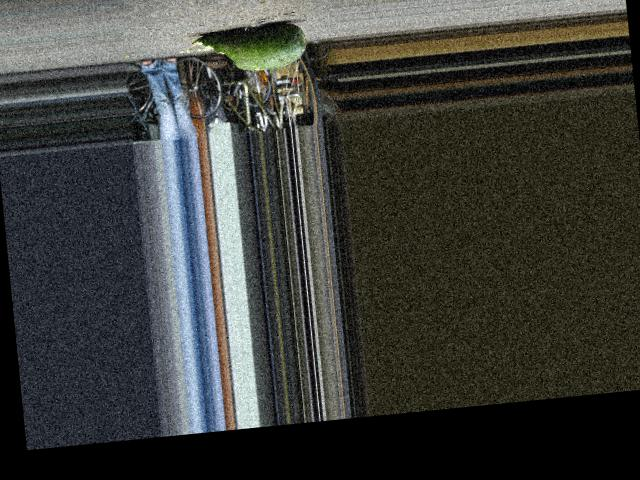cucumber: (188, 21, 307, 76)
